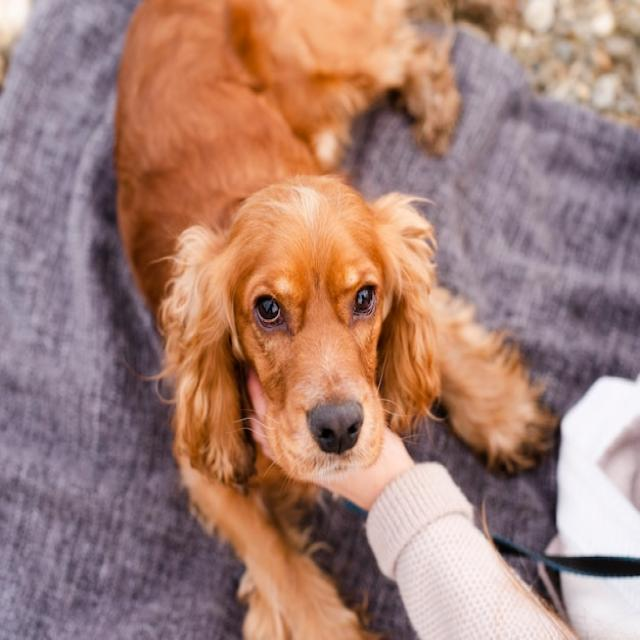Dog: (116, 0, 558, 640)
